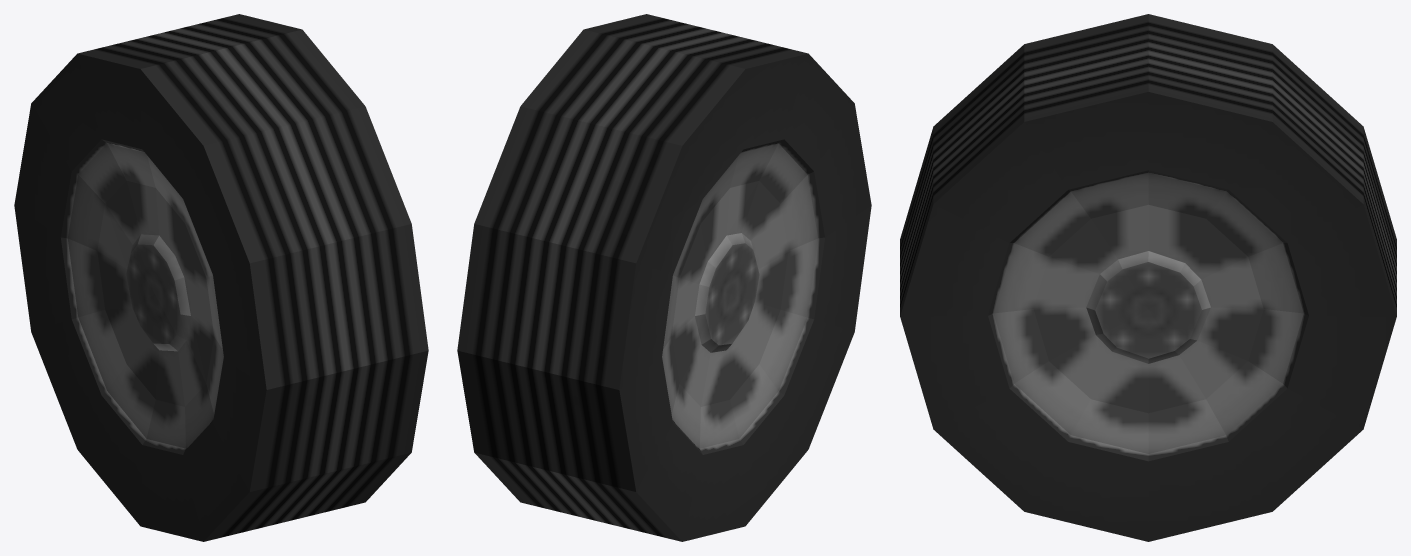
Rendered from LeGranWheelE.fbx.
3 renders of one model, left to right at view 1: azimuth 30°, elevation 25°; view 2: azimuth 150°, elevation 25°; view 3: azimuth 270°, elevation 25°, orthographic.
Parts seen in each view (by area): view 1: WheelLeGranB; view 2: WheelLeGranB; view 3: WheelLeGranB.
Part boxes in pixels (bbox=[...]): WheelLeGranB: bbox=[14, 14, 428, 541]; WheelLeGranB: bbox=[457, 14, 871, 541]; WheelLeGranB: bbox=[900, 14, 1396, 541].
Size of the model in its own units: 0.4162 by 1.12 by 1.12.
